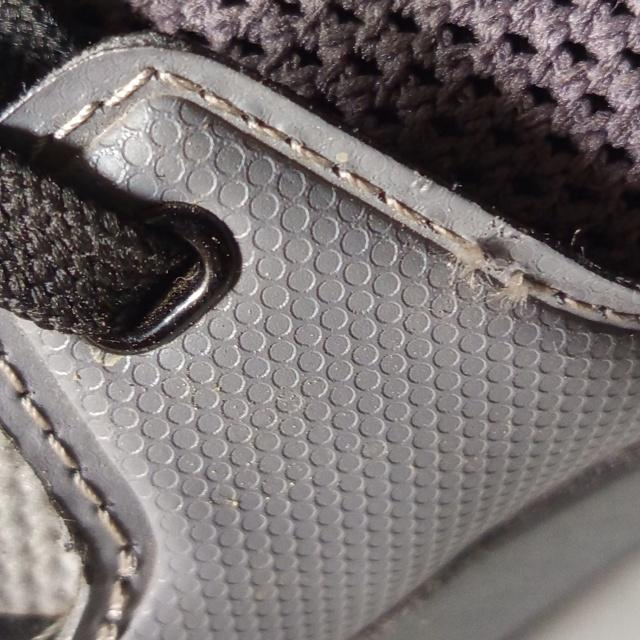broken-error: (459, 230, 544, 321)
